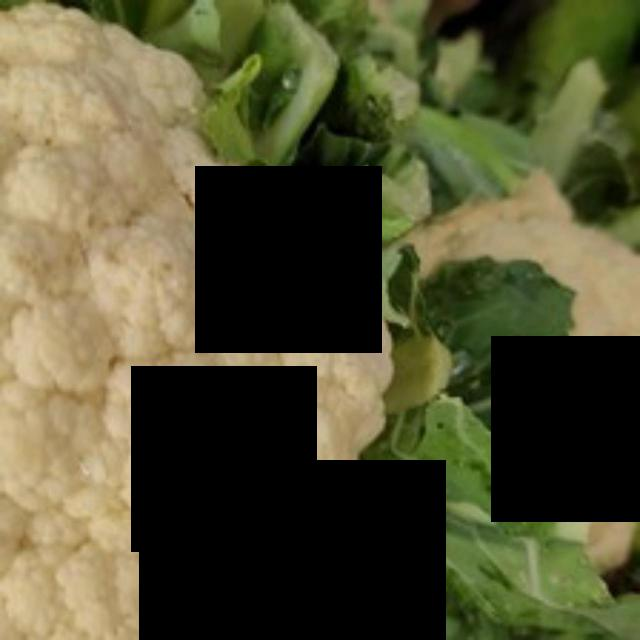cauliflower: (0, 0, 428, 637)
